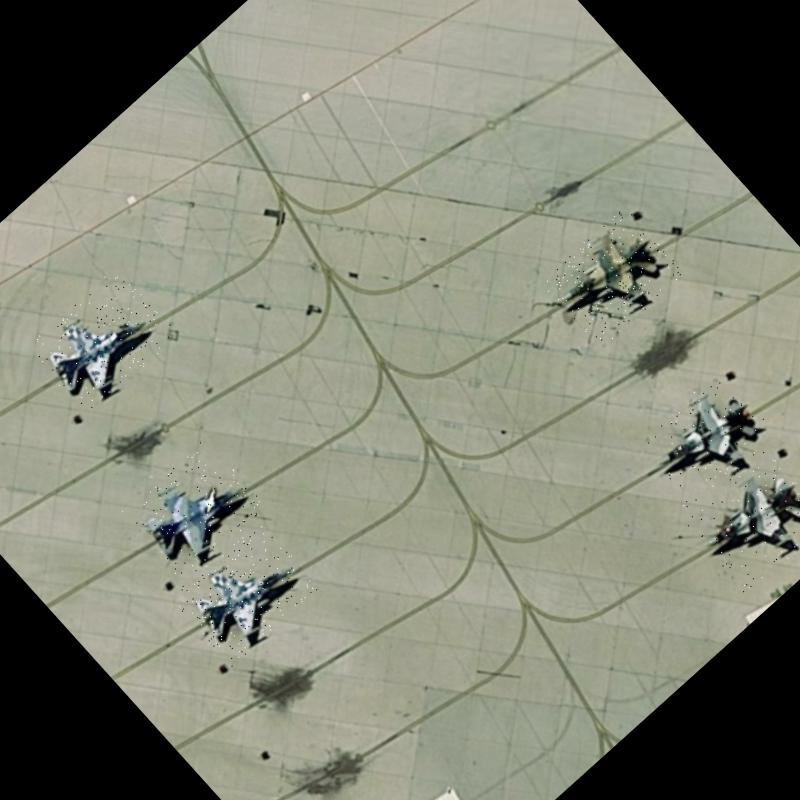A5: (25, 265, 180, 417), (170, 517, 320, 666), (630, 368, 781, 516), (117, 434, 267, 582), (539, 205, 685, 349), (682, 448, 800, 596)
